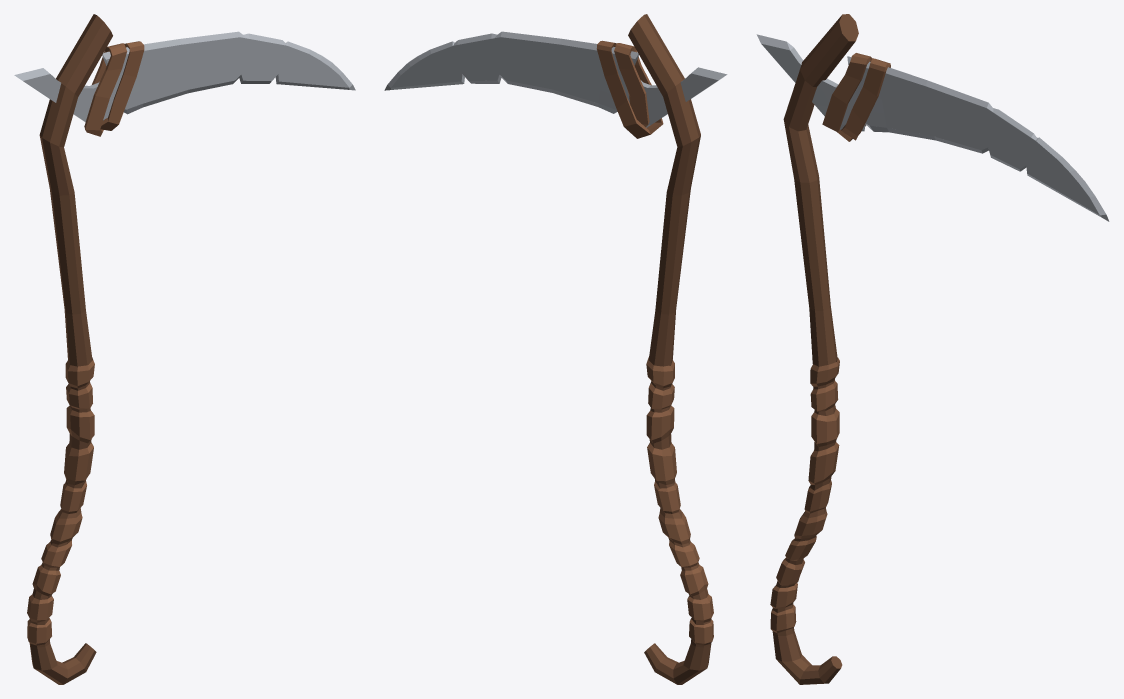
Rendered from Scythe.glb.
3 views of the same model, side by side, from view 1: azimuth 30°, elevation 25°; view 2: azimuth 150°, elevation 25°; view 3: azimuth 330°, elevation 25° (orthographic). The views are drawn at different scales.
Visible parts, largest first — view 1: Scythe; view 2: Scythe; view 3: Scythe.
Boxes of the visible parts, x1,y1,x2,y2 form: Scythe: [14, 14, 355, 684]; Scythe: [384, 14, 727, 684]; Scythe: [756, 14, 1109, 684].
Bounding box in the file's own units: 3.03 × 5.58 × 0.2771.
